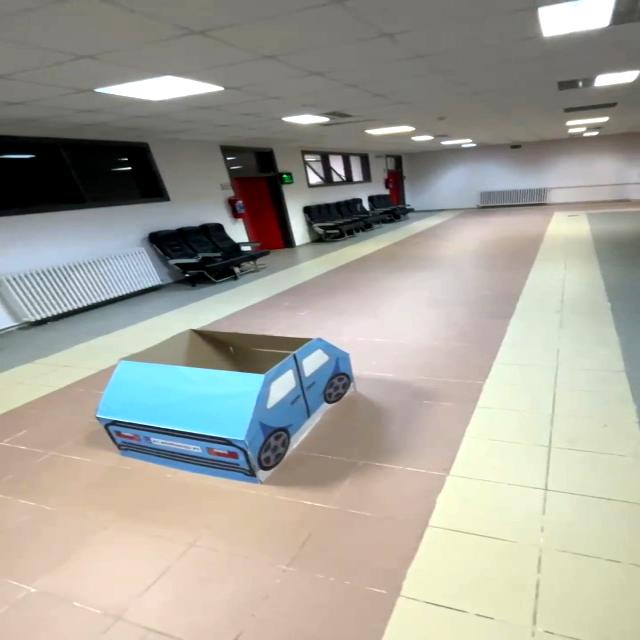blue_car: (89, 314, 367, 504)
